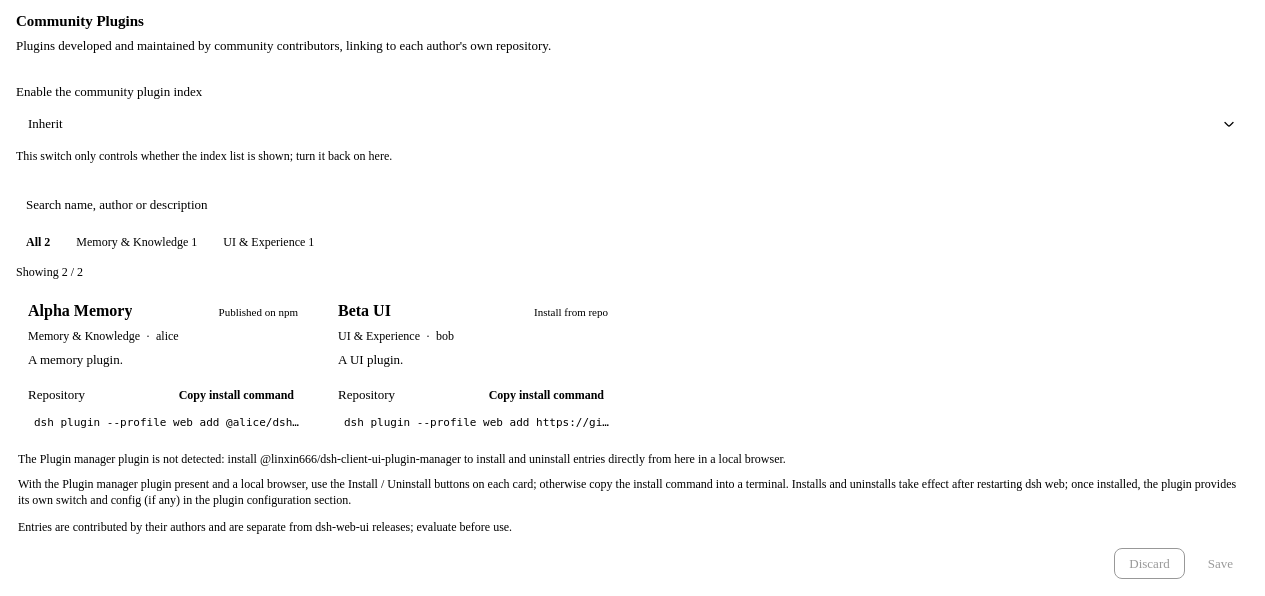
CommunityPluginsCard › shows the no-match notice when search or filter empties the list
The width and height of the screenshot is (1265, 596).
Type "zzz-nonexistent" into the search field named "search community plugins" at (632, 205), box [16, 189, 1248, 220]
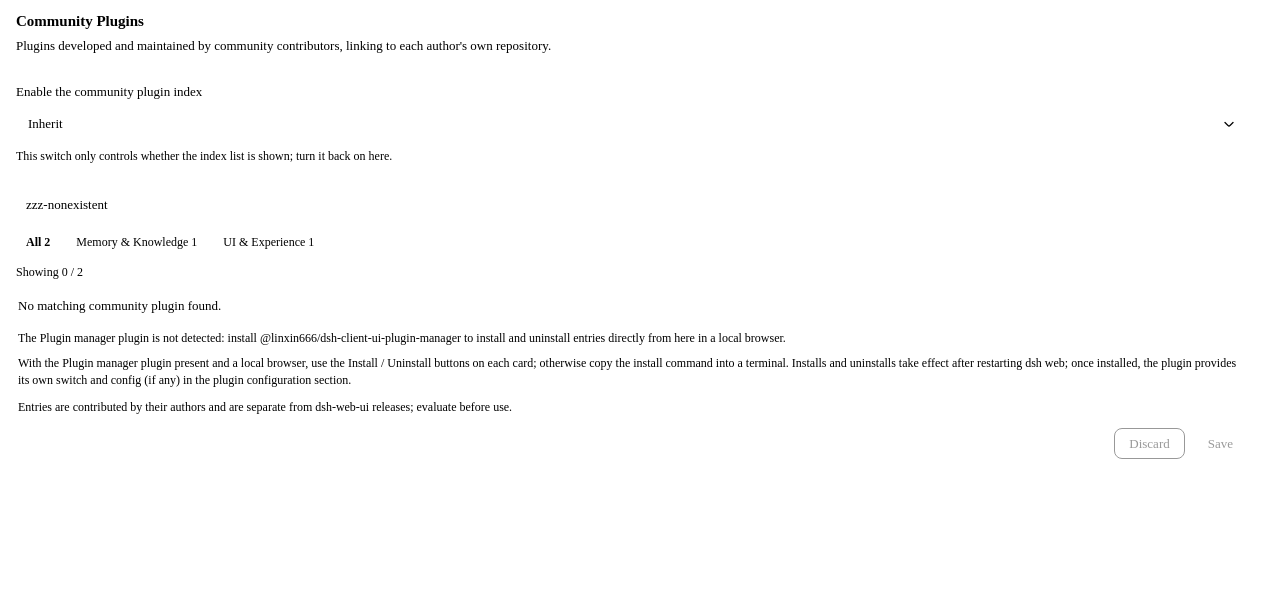
Expected: the text "No matching community plugin found." is shown, [18, 298, 221, 314]
Expected: the link "Repository" is gone
